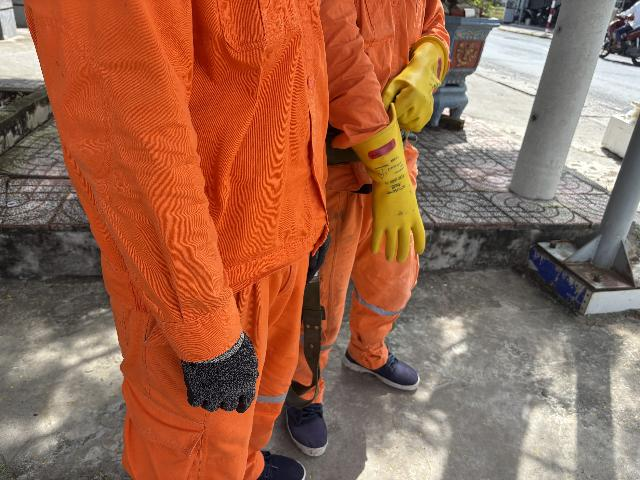gloves: (347, 107, 423, 263), (165, 320, 277, 416), (375, 20, 458, 128)
shoes: (341, 326, 429, 402), (267, 377, 343, 460), (232, 441, 313, 480)
